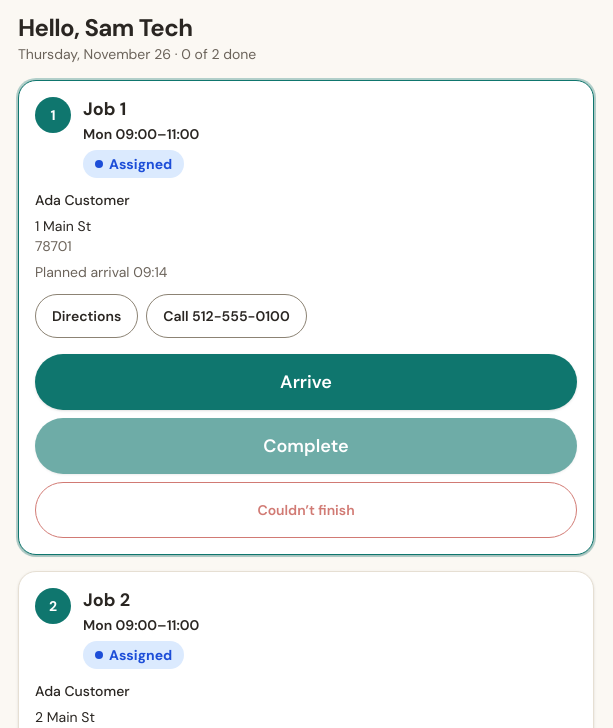
Scenario: TechnicianHome › a job the office took away (404) disappears after the reload
Click the button "Arrive" at [306, 382], box [35,354,577,410]
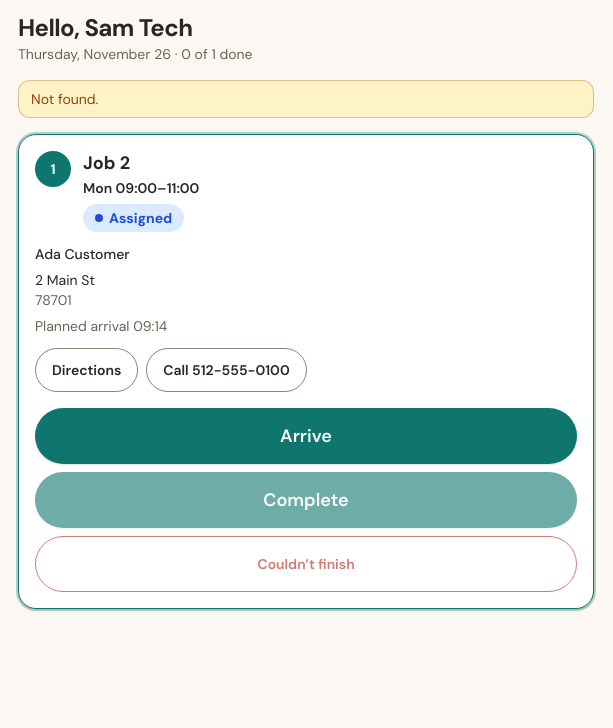
Expected: the element with id "job-1" is gone
